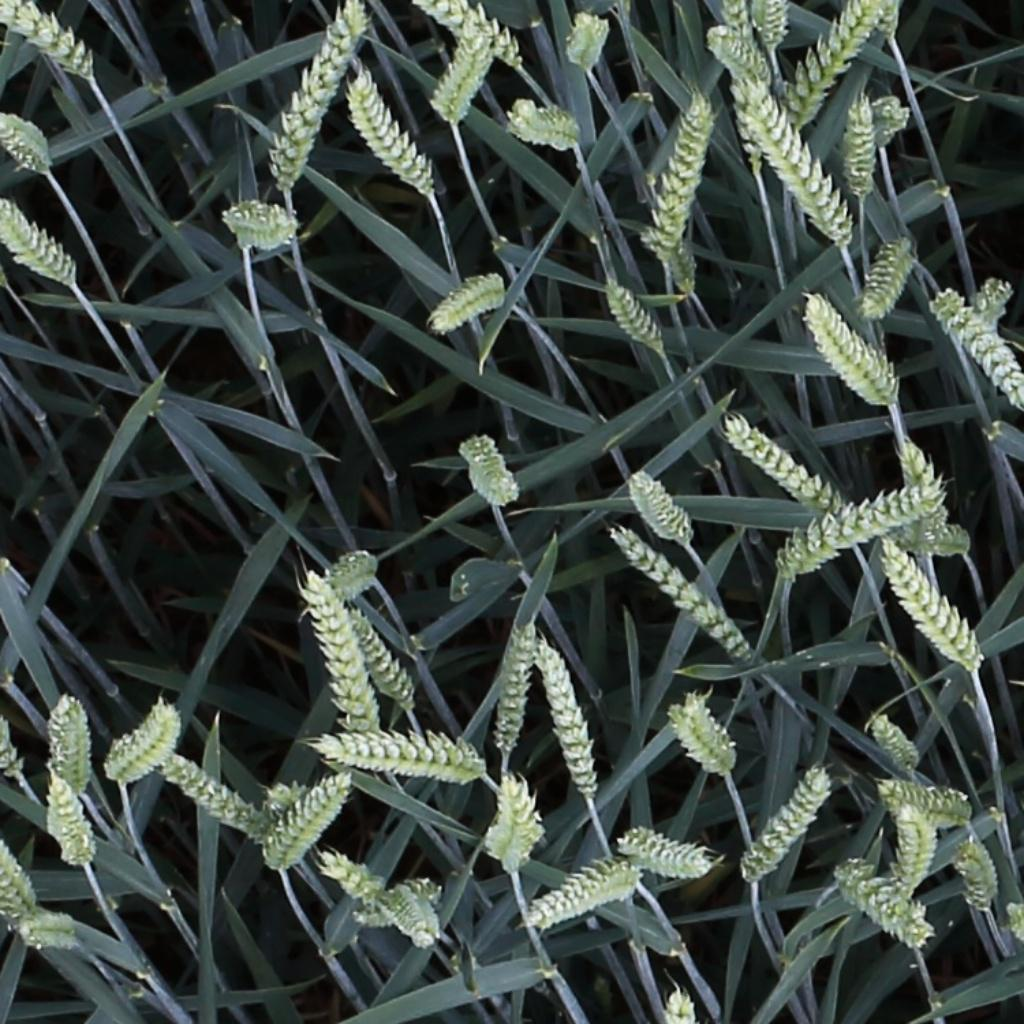0-0: (728, 74, 852, 249), (613, 525, 757, 664), (781, 487, 990, 574), (305, 835, 456, 950), (270, 1, 362, 189), (293, 714, 506, 789), (883, 542, 986, 680), (294, 573, 385, 729), (727, 416, 849, 516), (742, 763, 836, 886), (348, 75, 439, 195), (788, 0, 879, 120), (651, 88, 712, 267), (537, 637, 602, 804), (808, 293, 899, 408), (933, 286, 1021, 404), (161, 756, 268, 842), (842, 843, 929, 947), (531, 849, 642, 927), (414, 261, 519, 340), (342, 614, 422, 714), (266, 775, 348, 869), (474, 775, 547, 879), (0, 0, 94, 79), (428, 0, 528, 70), (0, 195, 75, 283), (213, 191, 301, 263), (496, 619, 539, 759), (602, 273, 671, 357), (878, 774, 975, 833), (105, 704, 177, 783), (671, 696, 737, 779), (623, 823, 708, 886), (630, 468, 696, 548), (902, 431, 947, 543), (458, 426, 518, 509), (45, 768, 94, 869), (698, 23, 778, 84), (886, 802, 940, 892), (438, 34, 494, 120), (347, 876, 444, 925), (959, 331, 1024, 404), (864, 233, 918, 318), (19, 904, 98, 958), (507, 96, 578, 153), (869, 709, 925, 778), (838, 90, 870, 199), (54, 693, 87, 798), (0, 824, 35, 921), (569, 5, 617, 75), (957, 839, 998, 918), (0, 109, 50, 172), (327, 542, 384, 595), (872, 93, 922, 141), (929, 523, 974, 569), (976, 273, 1014, 327), (0, 717, 22, 802), (722, 0, 763, 42), (871, 0, 906, 43), (757, 0, 789, 42), (666, 980, 694, 1024), (1002, 896, 1024, 945)
